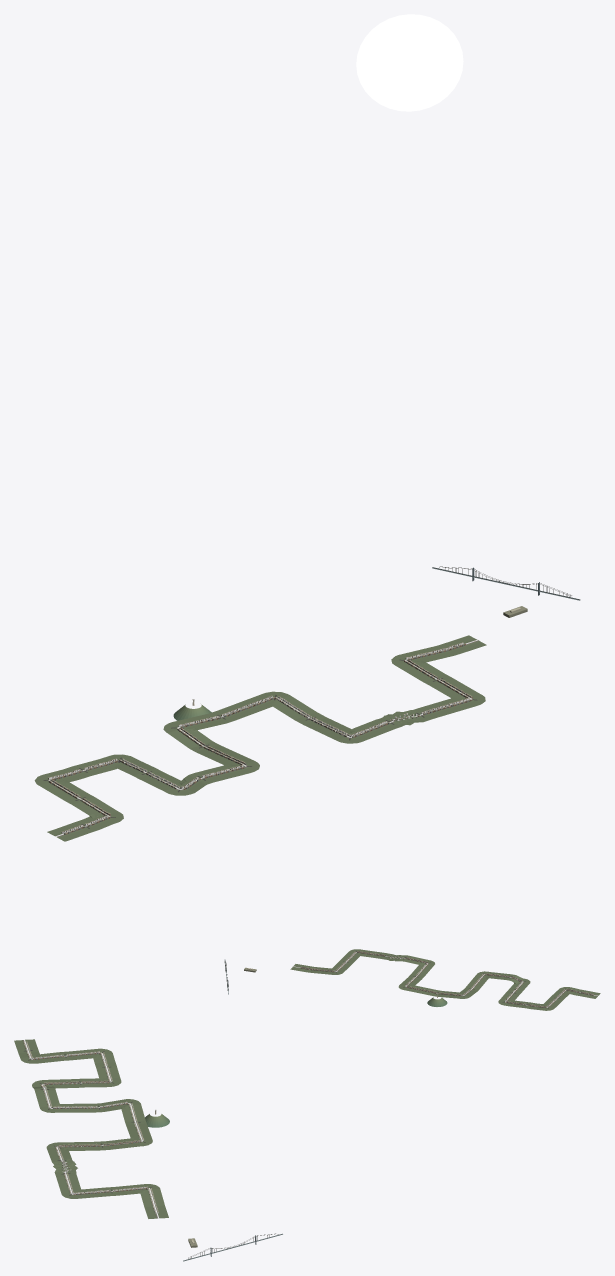
File: sfhills.glb
3 views of the same model, one above another, from view 1: azimuth 30°, elevation 25°; view 2: azimuth 150°, elevation 25°; view 3: azimuth 270°, elevation 25° (orthographic). The views are drawn at different scales.
Parts seen in each view (by area): view 1: Sun, Land_000, Land_005, Land_008, Land_004, Land_001, Land_002, Land_003, Land_006, Land_007, Peaks; view 2: Land_003, Land_002, Land_006, Land_005, Land_000, Land_001, Land_004, Land_008, Land_007, Peaks, Land_009; view 3: Land_004, Land_001, Land_008, Land_003, Land_005, Land_002, Land_000, Land_007, Land_006, Peaks, Land_009.
Boxes of the visible parts, x1,y1,x2,y2 form: Sun: (356,14,463,111); Land_000: (47,793,123,841); Land_005: (220,691,326,724); Land_008: (391,651,477,699); Land_004: (163,710,237,754); Land_001: (34,758,118,800); Land_002: (101,754,199,795); Land_003: (183,747,259,788); Land_006: (304,714,401,743); Land_007: (385,692,485,726); Peaks: (173,566,580,720); Land_003: (468,971,518,987); Land_002: (498,977,530,1005); Land_006: (396,955,434,976); Land_005: (398,974,435,995); Land_000: (549,987,600,1000); Land_001: (508,998,562,1010); Land_004: (430,985,480,998); Land_008: (322,953,360,974); Land_007: (348,949,405,961); Peaks: (224,959,447,1006); Land_009: (290,964,327,973); Land_004: (87,1099,146,1125); Land_001: (68,1048,120,1078); Land_008: (77,1184,162,1198); Land_003: (33,1086,90,1112); Land_005: (96,1124,152,1150); Land_002: (32,1077,121,1088); Land_000: (14,1039,70,1063); Land_007: (52,1162,81,1198); Land_006: (46,1141,98,1164); Peaks: (145,1110,282,1261); Land_009: (141,1195,168,1218).
Size of what is drawn, in the model's own units: 7120 by 3079 by 6419.
